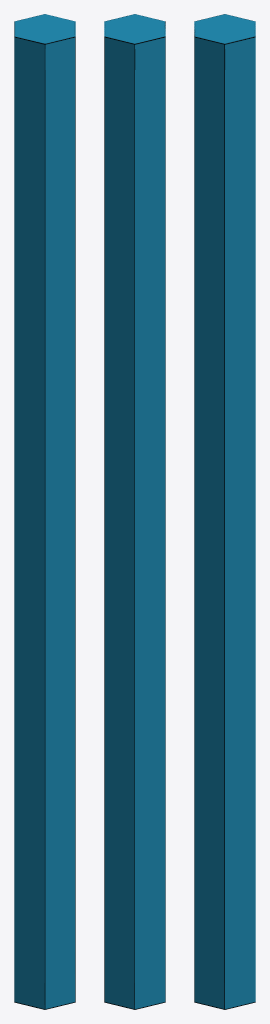
The model's file is world1.obj.
The picture shows the model from 3 angles, left to right: view 1: azimuth 30°, elevation 25°; view 2: azimuth 150°, elevation 25°; view 3: azimuth 330°, elevation 25°; orthographic projection.
Parts seen in each view (by area): view 1: 円; view 2: 円; view 3: 円.
Part boxes in pixels (x1,y1,x2,y2): 円: (14,14,75,1009); 円: (104,14,165,1009); 円: (194,14,255,1009).
Bounding box in the file's own units: 0.5 × 7.5 × 0.433.
1 material, 1 textured.
